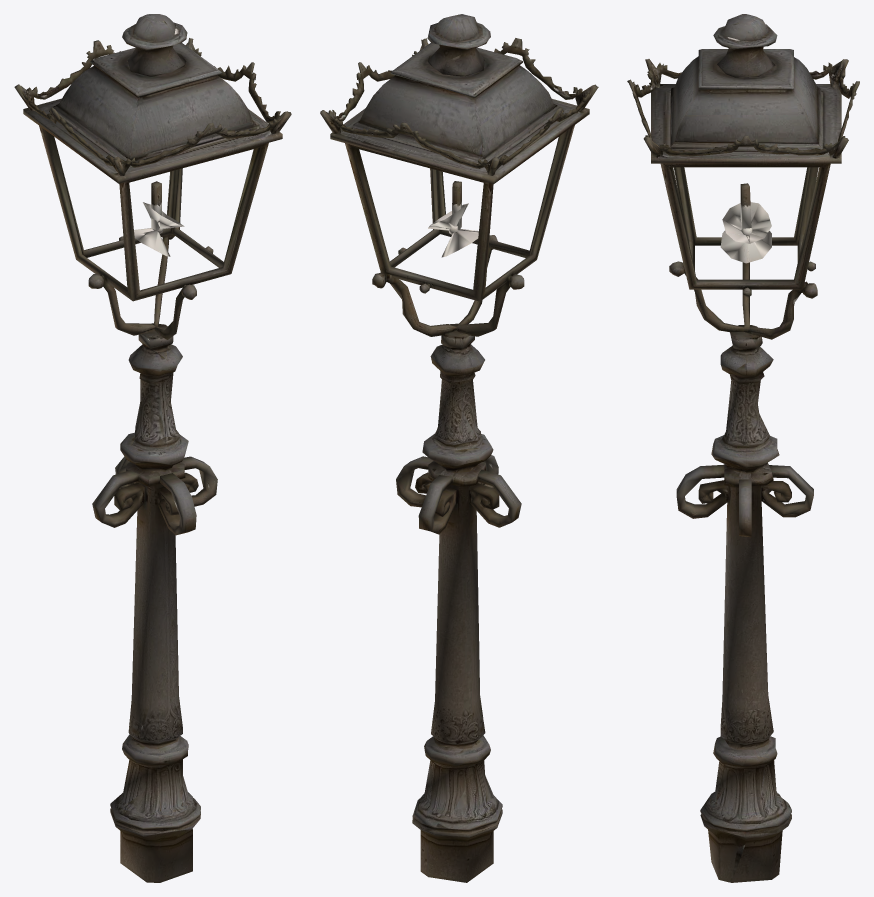
Rendered from street_lamp.glb.
3 renders of one model, left to right at view 1: azimuth 30°, elevation 25°; view 2: azimuth 150°, elevation 25°; view 3: azimuth 270°, elevation 25°, orthographic.
Parts seen in each view (by area): view 1: TesanaFacingY180; view 2: TesanaFacingY180; view 3: TesanaFacingY180.
Part boxes in pixels (<box>): TesanaFacingY180: <box>14,14,291,882</box>; TesanaFacingY180: <box>320,14,598,882</box>; TesanaFacingY180: <box>627,14,859,882</box>.
Bounding box in the file's own units: 0.4971 × 2 × 0.4971.
1 material, 1 textured.
